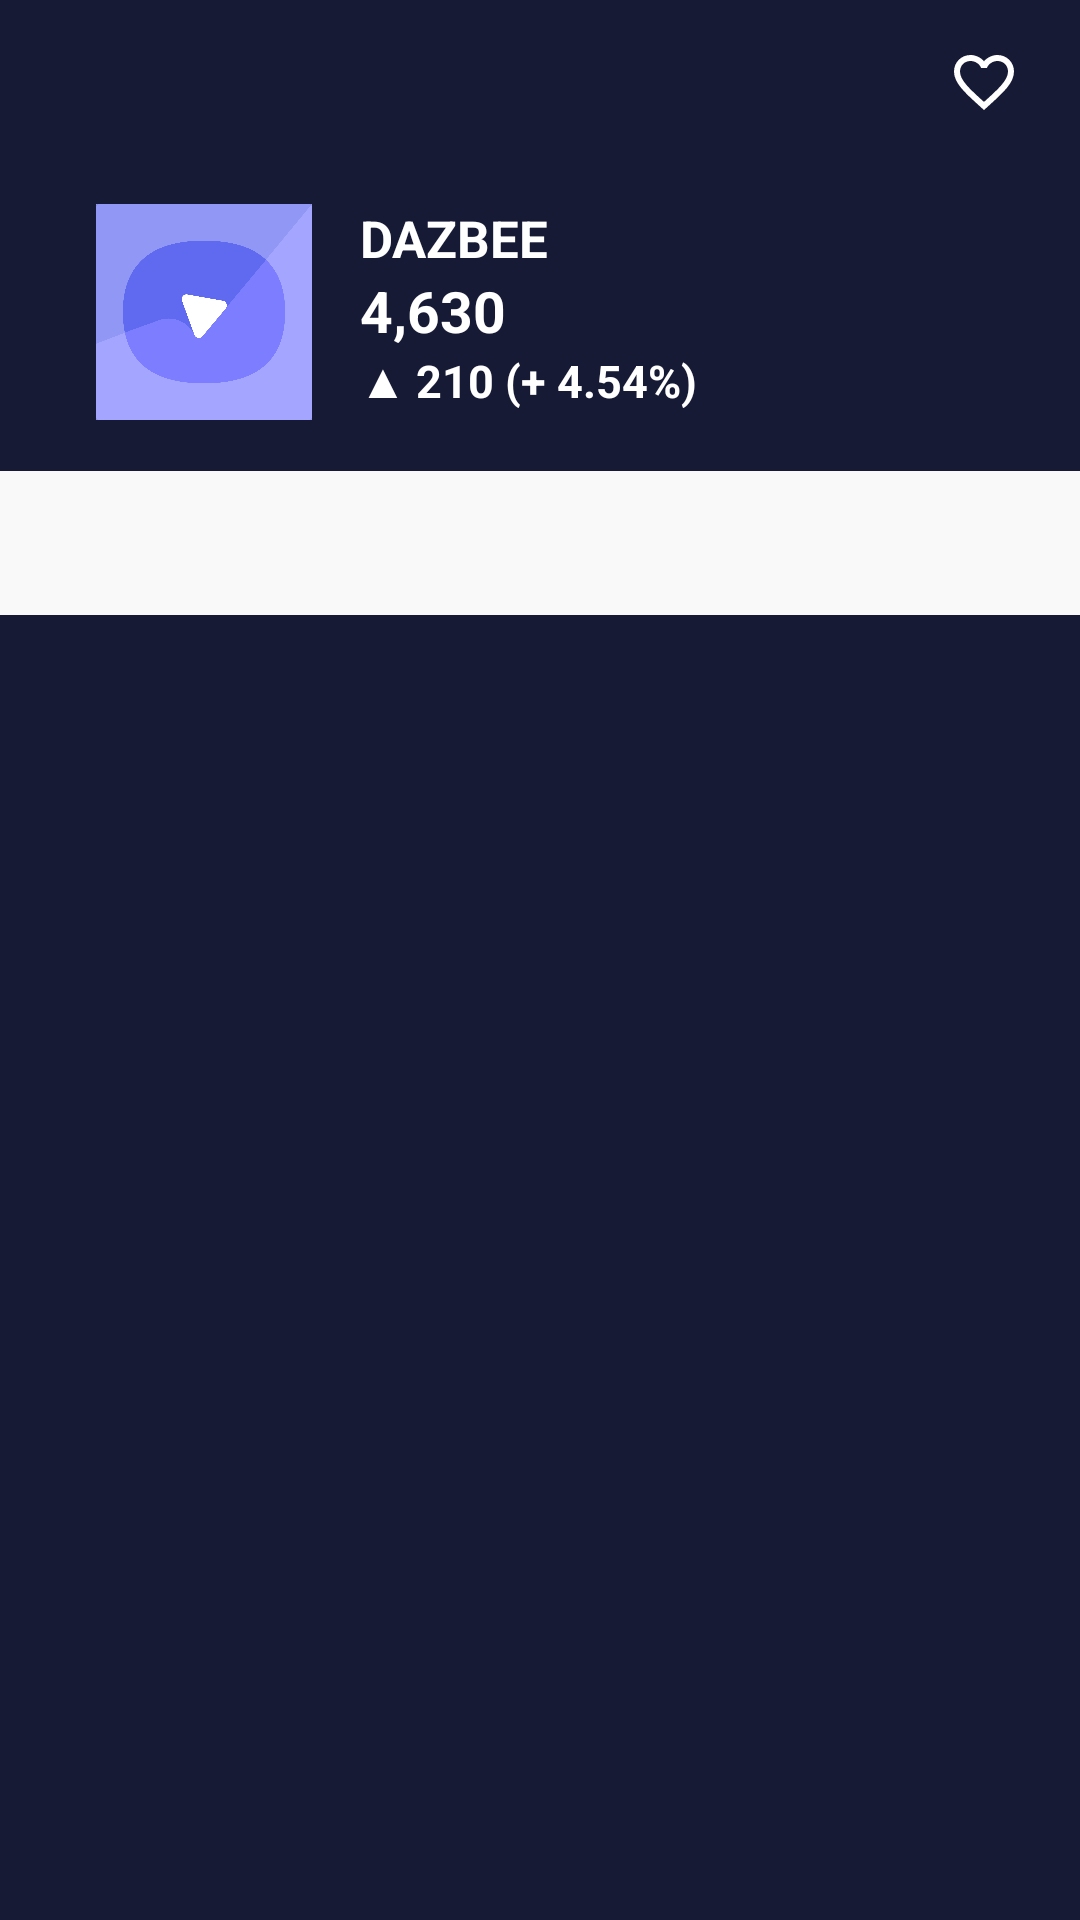

Icons on this 1080 × 1920 Android screen, each with the point to tap as (x=x, y=y):
like: (x=984, y=82)
